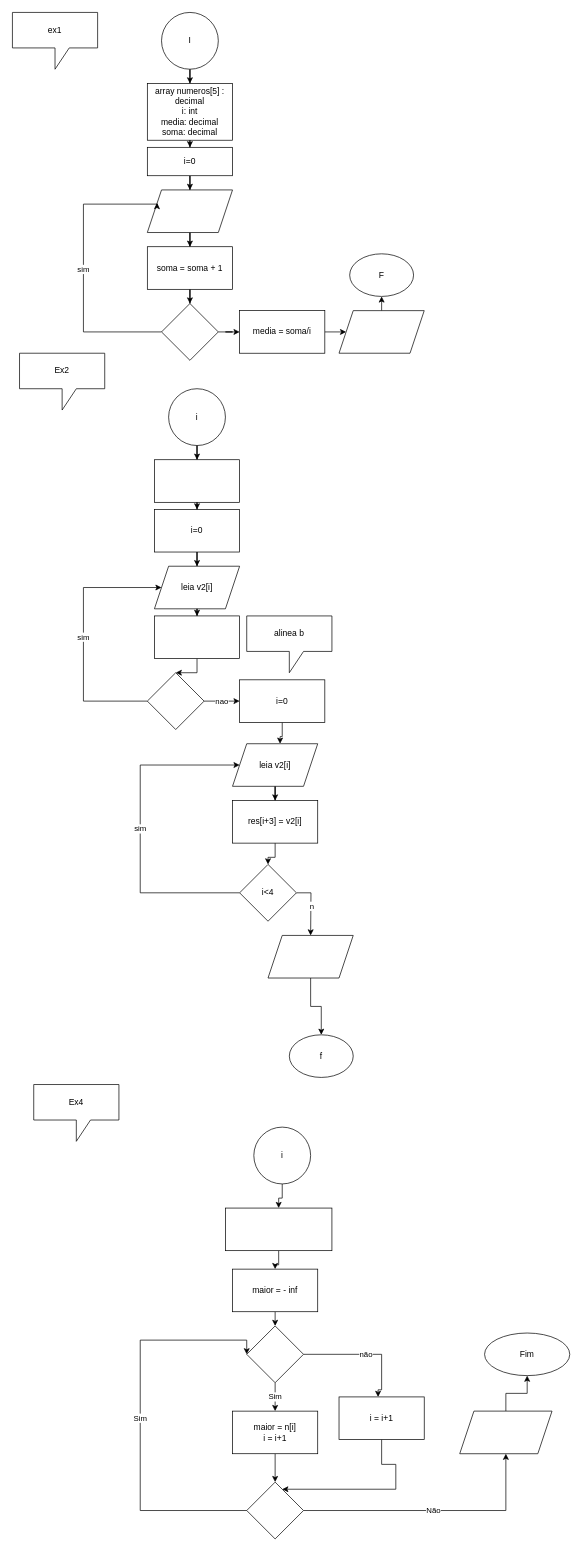
The diagram is 582 pixels wide and 1551 high, and some of its shapes have lost their labels. The centre of each missing label's shape, as x and y in pixels:
array numeros(10): decimal maior: decimal: (278,1229)
array v1[3]: decimal array v2[4]: decimal array res[7]: decimal i: int: (197,480)
escreva (res): (310,956)
Escreva media: (381,331)
Escreva(maior): (505,1432)
i<10: (275,1510)
i<3: (175,701)
i<5: (189,331)
leia n[i]: (190,211)
n[i]>maior: (275,1354)
res[i] = v[i]: (197,637)
